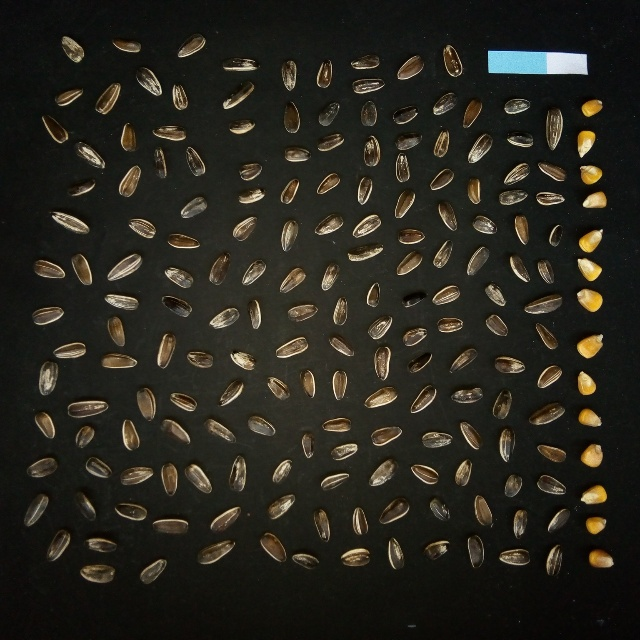escala: (487, 50, 588, 73)
girasol: (525, 396, 569, 431), (104, 250, 146, 286), (194, 537, 238, 570), (44, 208, 93, 237), (364, 455, 403, 490), (219, 78, 259, 112), (208, 501, 244, 536), (377, 494, 413, 529), (71, 138, 108, 172), (20, 491, 53, 529), (255, 529, 289, 565), (445, 343, 482, 376), (362, 383, 401, 414), (223, 451, 251, 494), (37, 110, 72, 144), (271, 332, 312, 361), (541, 105, 566, 152), (45, 525, 73, 566), (462, 531, 490, 572), (469, 491, 499, 529), (274, 216, 303, 255), (67, 249, 96, 288), (181, 461, 215, 494), (407, 382, 441, 415), (174, 31, 210, 62), (93, 80, 124, 116), (69, 488, 99, 525), (152, 330, 179, 371), (383, 533, 410, 574), (64, 397, 112, 420), (200, 416, 239, 444), (488, 350, 527, 378), (464, 131, 497, 164), (133, 63, 164, 98), (463, 244, 494, 279), (181, 144, 211, 180), (228, 214, 264, 244), (132, 384, 159, 424), (117, 162, 146, 199), (204, 303, 241, 332), (541, 542, 569, 580), (529, 319, 561, 352), (276, 265, 310, 296), (312, 210, 347, 240), (433, 198, 462, 234), (204, 251, 232, 288), (147, 515, 192, 538), (75, 562, 120, 585), (521, 292, 566, 315), (223, 346, 261, 373), (138, 556, 170, 588), (542, 504, 573, 537), (260, 373, 294, 403), (264, 491, 298, 521), (176, 193, 211, 222), (371, 342, 395, 384), (37, 358, 61, 400), (530, 472, 570, 497), (157, 418, 194, 445), (24, 454, 61, 481), (324, 330, 357, 360), (29, 409, 59, 442), (392, 248, 425, 278), (534, 361, 567, 391), (117, 462, 155, 488), (220, 53, 267, 74), (349, 211, 383, 240), (103, 313, 131, 348), (278, 55, 303, 94), (366, 423, 405, 448), (280, 99, 307, 135), (496, 159, 532, 186), (99, 291, 143, 313), (97, 349, 141, 371), (157, 293, 194, 319), (326, 367, 352, 404), (57, 33, 88, 64), (240, 257, 270, 289), (215, 378, 247, 408), (487, 386, 515, 420), (182, 346, 217, 373), (26, 304, 67, 327), (496, 424, 519, 465), (161, 264, 197, 290), (117, 417, 143, 453), (158, 460, 182, 499), (310, 506, 334, 545), (446, 383, 485, 407), (481, 312, 513, 341), (78, 455, 115, 480), (505, 252, 533, 285), (416, 427, 458, 449), (457, 419, 485, 452), (81, 533, 121, 556), (430, 237, 457, 271), (336, 545, 374, 569), (318, 259, 344, 294), (318, 468, 353, 494), (345, 241, 386, 263), (313, 56, 338, 92), (30, 256, 66, 281), (396, 53, 426, 83), (314, 99, 345, 128), (346, 48, 385, 71), (363, 313, 395, 341), (459, 99, 487, 131), (125, 215, 159, 241), (166, 388, 200, 414), (393, 187, 419, 221), (429, 283, 463, 309), (162, 231, 204, 252), (49, 339, 89, 361), (244, 413, 279, 438), (510, 212, 535, 247), (111, 499, 149, 522), (361, 133, 385, 169), (64, 175, 100, 199), (441, 44, 466, 78), (535, 160, 569, 185), (267, 457, 296, 486), (285, 300, 320, 324), (349, 503, 373, 538), (533, 441, 568, 465), (389, 151, 415, 183), (409, 462, 441, 488), (148, 123, 191, 142), (353, 174, 377, 208), (297, 366, 321, 400), (233, 185, 270, 207), (314, 171, 343, 199), (356, 97, 382, 128), (425, 165, 456, 191), (467, 213, 502, 236), (168, 80, 193, 112), (52, 83, 85, 107), (149, 145, 171, 181), (425, 496, 454, 523), (316, 415, 355, 435), (331, 293, 352, 330), (405, 349, 436, 374), (500, 468, 525, 499), (327, 440, 362, 462), (500, 94, 535, 116), (431, 124, 453, 159), (510, 506, 532, 541), (399, 325, 431, 349), (393, 129, 426, 152), (72, 423, 99, 451), (431, 89, 459, 116), (495, 187, 531, 208), (483, 280, 509, 309), (278, 175, 303, 205), (451, 458, 476, 488), (296, 427, 318, 461), (236, 159, 267, 183), (422, 538, 453, 562), (224, 116, 261, 136), (531, 188, 567, 208), (280, 144, 314, 165), (313, 132, 347, 153), (349, 76, 386, 95), (497, 547, 534, 566), (534, 258, 559, 286), (463, 174, 484, 207), (246, 297, 266, 331), (290, 552, 324, 572), (108, 36, 145, 54), (393, 227, 428, 246), (120, 122, 141, 153), (363, 278, 384, 309), (431, 316, 467, 334), (389, 106, 422, 125), (503, 131, 537, 149), (546, 220, 566, 250), (401, 289, 428, 308)
maiz: (572, 330, 610, 362), (582, 545, 620, 572), (576, 439, 609, 469), (573, 285, 608, 313), (577, 224, 608, 253), (578, 481, 612, 507), (571, 256, 606, 281), (574, 369, 603, 397), (574, 129, 600, 160), (581, 513, 613, 537), (575, 405, 604, 430), (577, 162, 605, 185), (579, 190, 611, 210), (581, 96, 606, 118)
